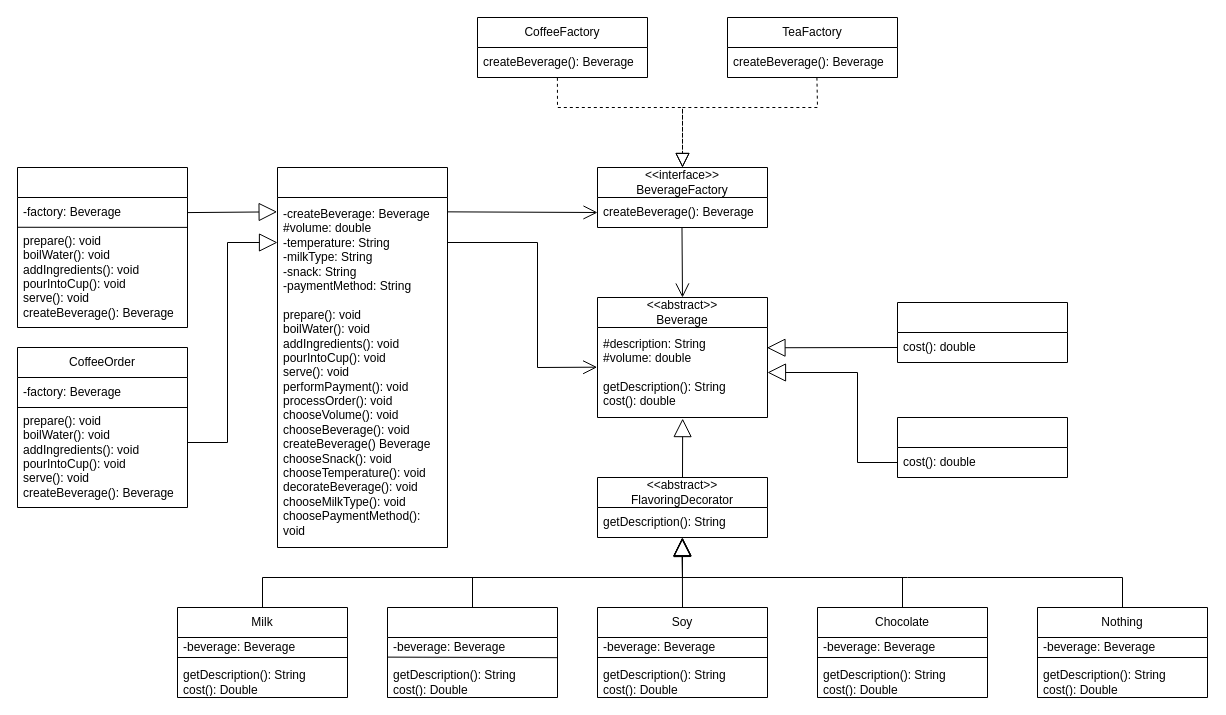
This 1226x715 diagram has some shape labels left out. The shapes that lost their labels are listed below. From the top down, each one's box as (x1, y1, x2, y2) in pixels, then its label:
(16, 166, 188, 328): TeaOrder
(896, 302, 1068, 362): Coffee
(276, 166, 448, 548): <<abstract>> Order
(896, 416, 1068, 478): Tea
(386, 606, 558, 698): Whip
